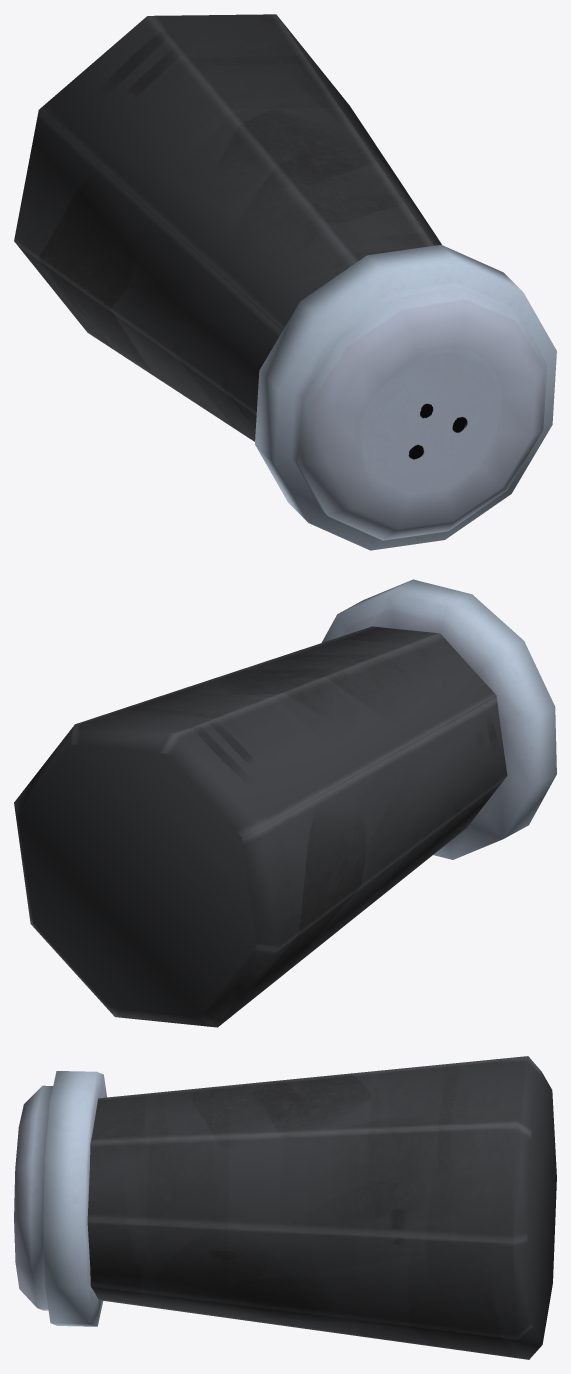
File: Pepper.fbx
3 views of the same model, one above another, from view 1: azimuth 30°, elevation 25°; view 2: azimuth 150°, elevation 25°; view 3: azimuth 270°, elevation 25° (orthographic). The views are drawn at different scales.
Visible parts, largest first — view 1: Pepper; view 2: Pepper; view 3: Pepper.
Part boxes in pixels (<box>): Pepper: <box>14,14,556,550</box>; Pepper: <box>14,579,556,1027</box>; Pepper: <box>14,1056,556,1359</box>.
Size of the model in its own units: 11.2 by 10.42 by 18.61.
